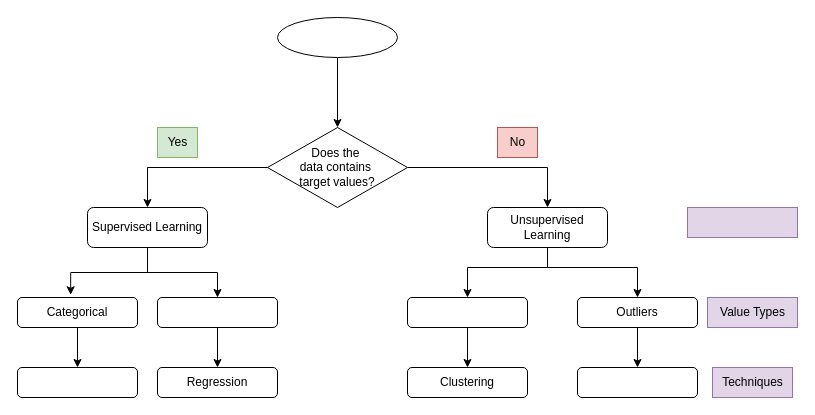
Image size: 815x415. Some labels were removed from this diagram. Here are the shapes that lost their labels. From the top down, the box of each, then its label:
(276, 16, 398, 58): Start
(686, 206, 798, 238): Learning Types
(156, 296, 278, 328): Continous
(406, 296, 528, 328): Discrete Groups
(16, 366, 138, 398): Classification
(576, 366, 698, 398): Anamoly Detection
